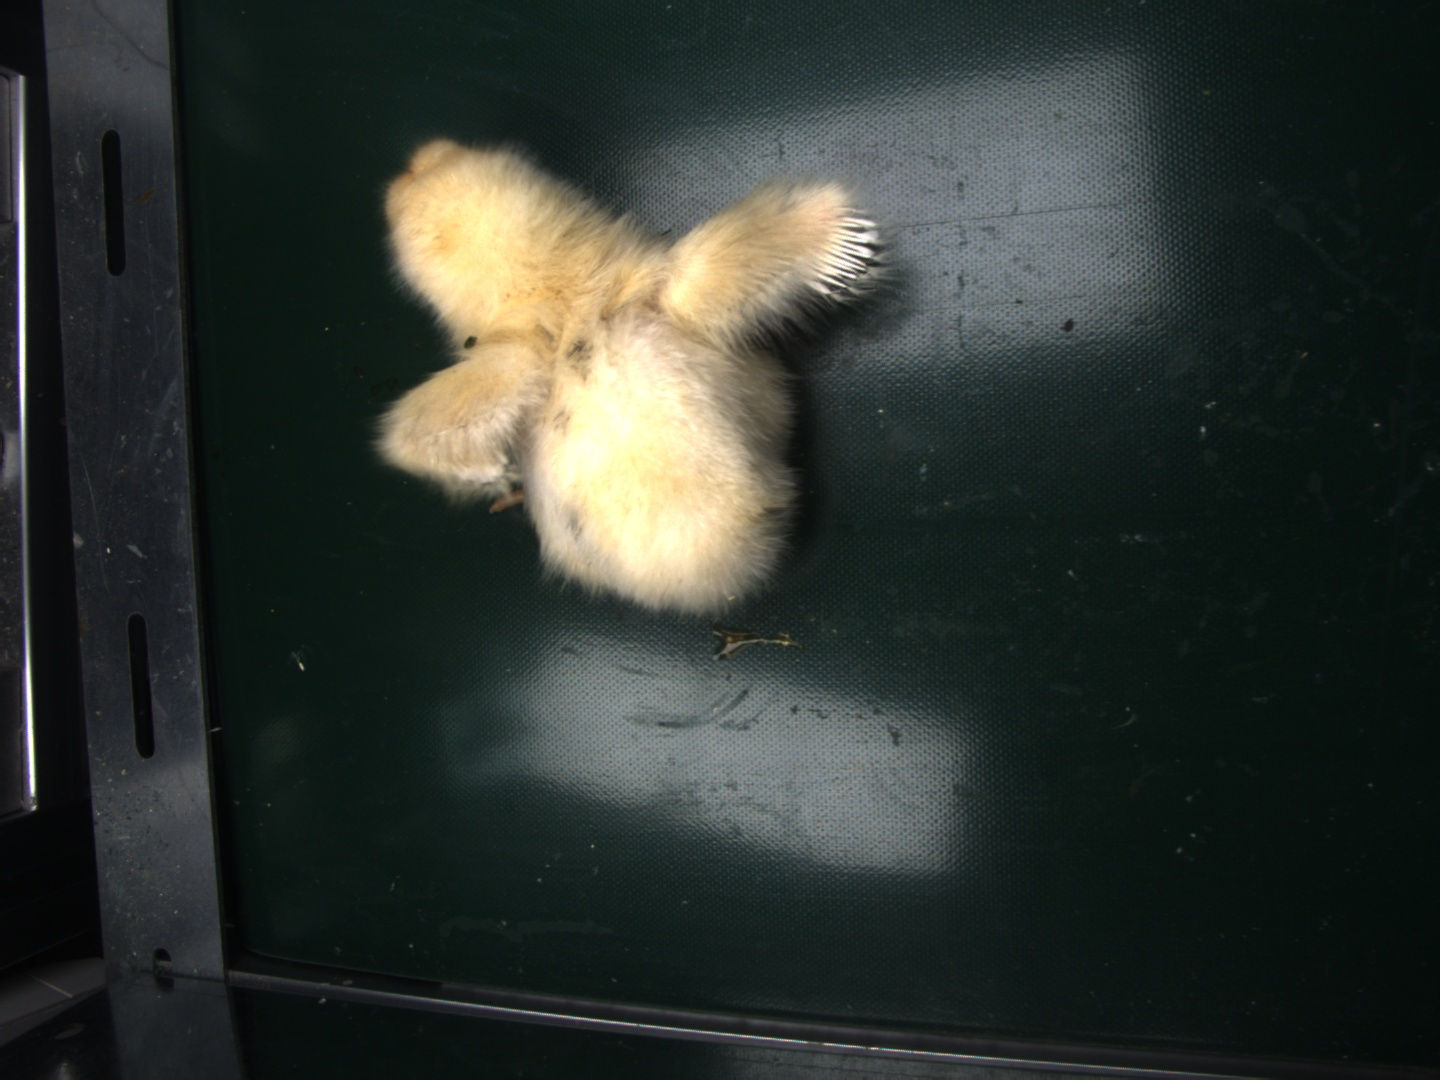male: (811, 204, 880, 298)
